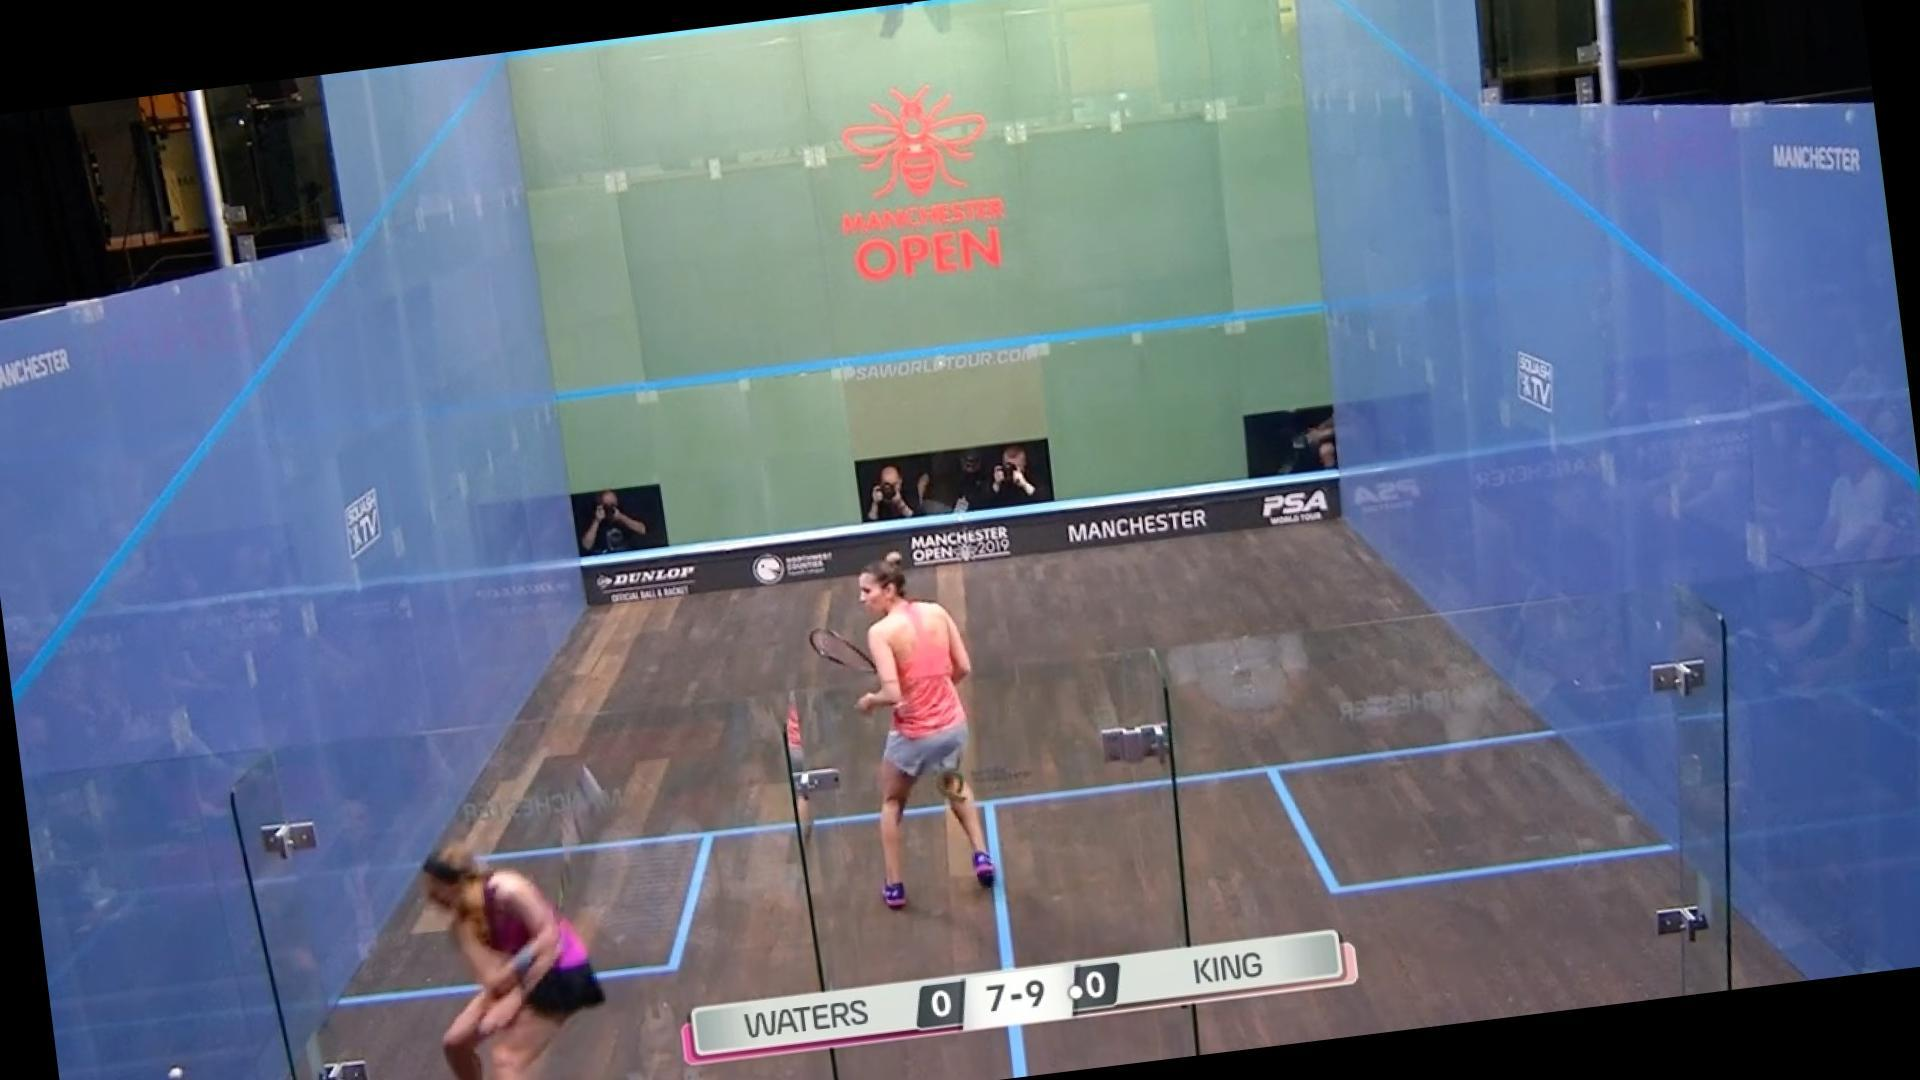Squash-Ball: (138, 1043, 212, 1080)
